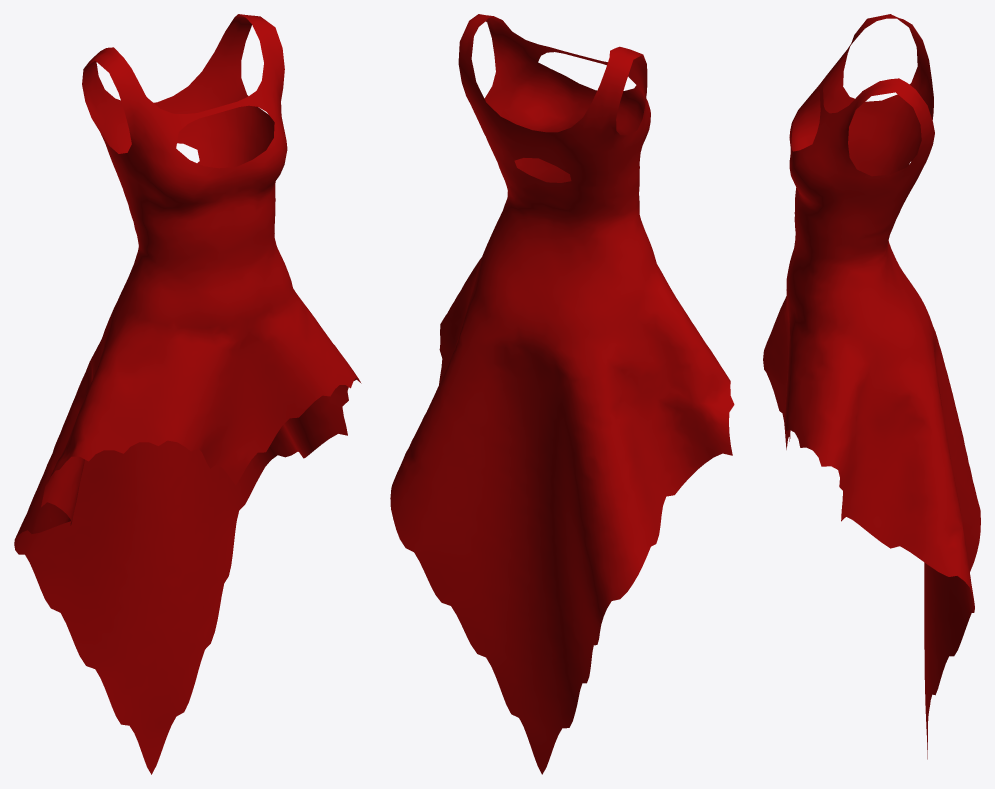
Rendered from red_dress.glb.
3 renders of one model, left to right at view 1: azimuth 30°, elevation 25°; view 2: azimuth 150°, elevation 25°; view 3: azimuth 270°, elevation 25°, orthographic. The views are drawn at different scales.
Parts seen in each view (by area): view 1: red_dress; view 2: red_dress; view 3: red_dress.
Part boxes in pixels (x1=…): red_dress: x1=14, y1=14, x2=361, y2=774; red_dress: x1=390, y1=14, x2=734, y2=774; red_dress: x1=763, y1=14, x2=980, y2=759.
Bounding box in the file's own units: 0.5151 × 1.2 × 0.3233.
